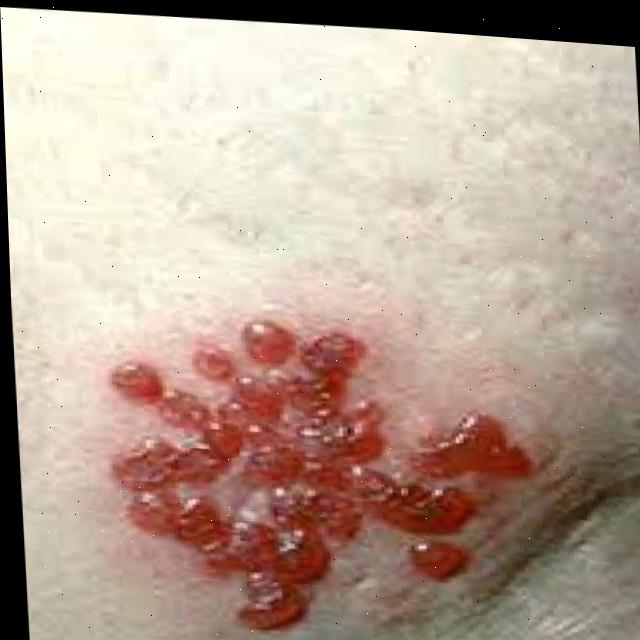Shingles: (107, 310, 527, 640)
